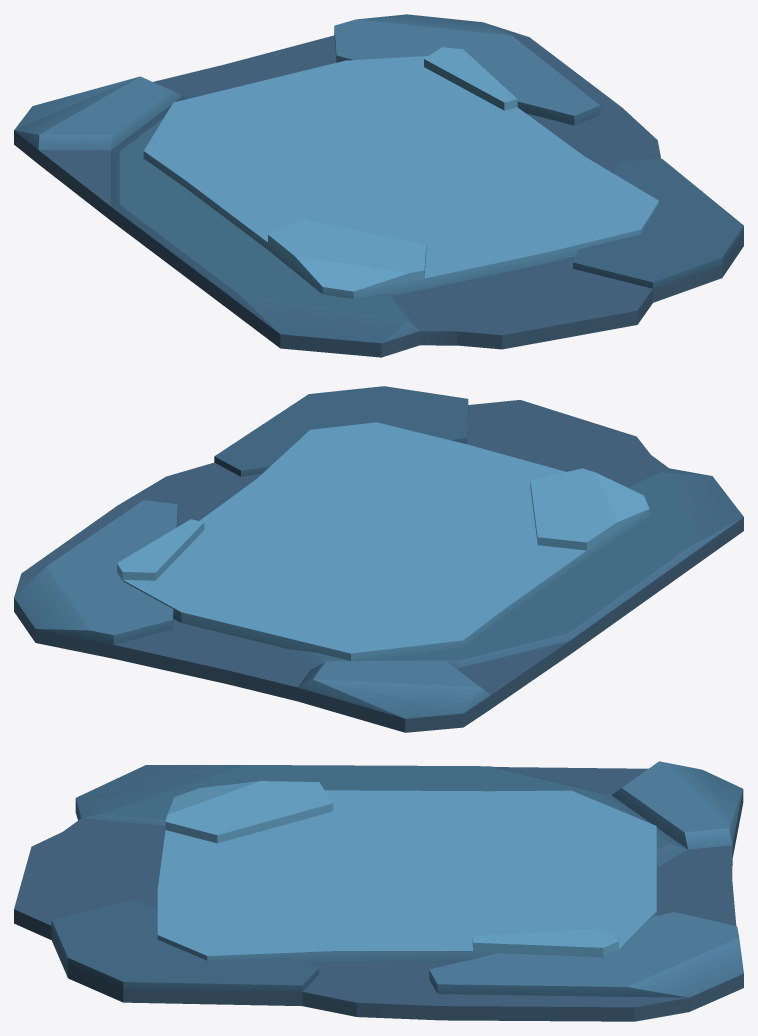
Rendered from Tomb_Platform.fbx.
3 renders of one model, top to bottom at view 1: azimuth 30°, elevation 25°; view 2: azimuth 150°, elevation 25°; view 3: azimuth 270°, elevation 25°, orthographic. The views are drawn at different scales.
Parts seen in each view (by area): view 1: Tomb_Platform_02.002; view 2: Tomb_Platform_02.002; view 3: Tomb_Platform_02.002.
Part boxes in pixels (bbox=[...]): Tomb_Platform_02.002: bbox=[14, 14, 743, 357]; Tomb_Platform_02.002: bbox=[14, 386, 743, 732]; Tomb_Platform_02.002: bbox=[14, 761, 743, 1021].
Size of the model in its own units: 477 by 30.85 by 607.
